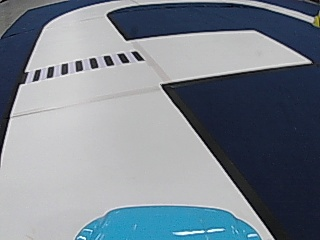CrossWalk: (26, 51, 143, 80)
